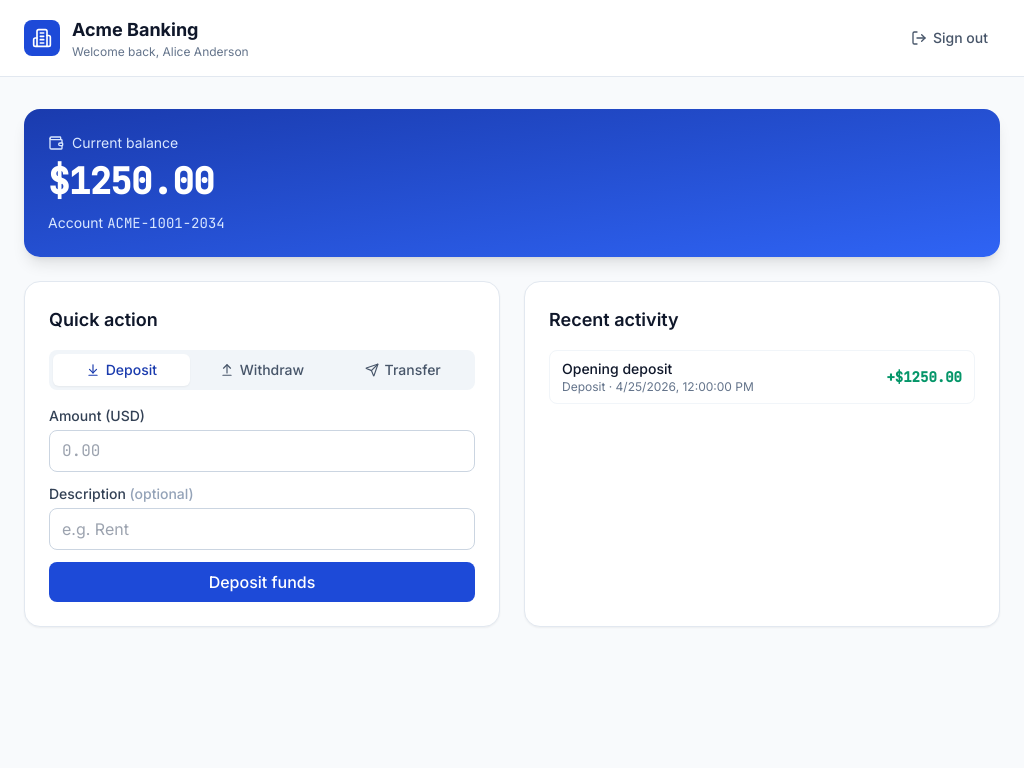
Scenario: <Dashboard /> deposit flow › converts dollar input to cents and re-fetches on success
Expected: the text "Opening deposit" is shown, [562,360,672,377]
Type "12.34" into the number field labelled "Amount (USD)" at (262,451), box [49,430,475,472]
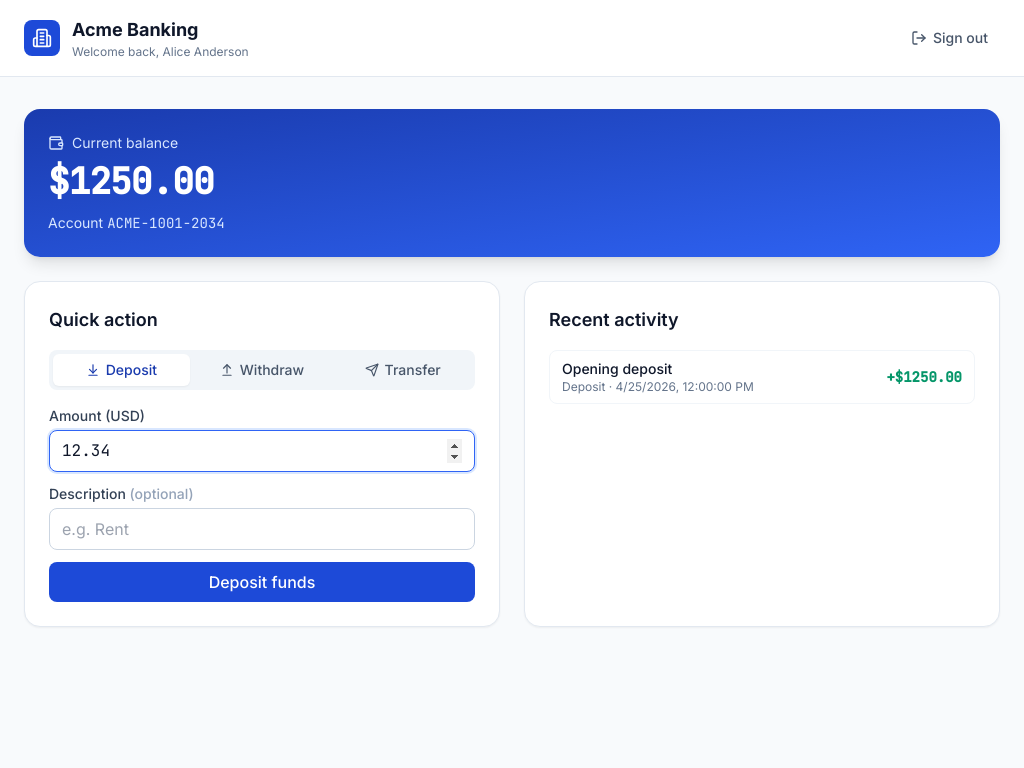
Type "Birthday" into the field labelled "Description (optional)" at (262,529), box [49,508,475,550]
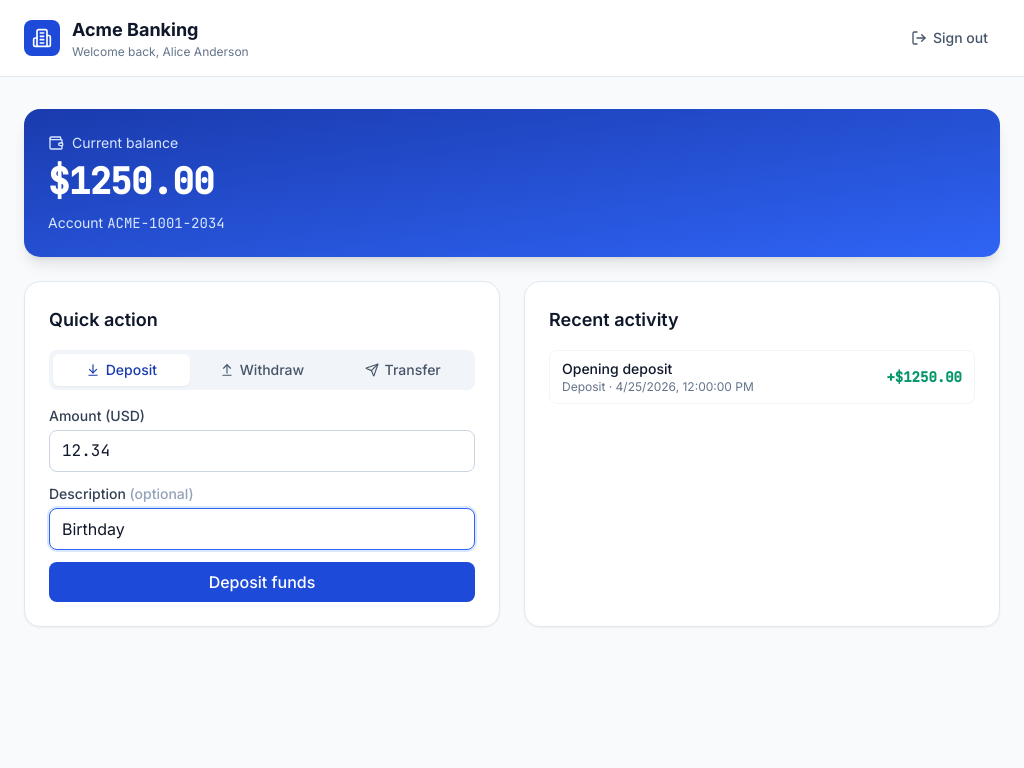
Click the button "Deposit funds" at (262,582), box [49,562,475,602]
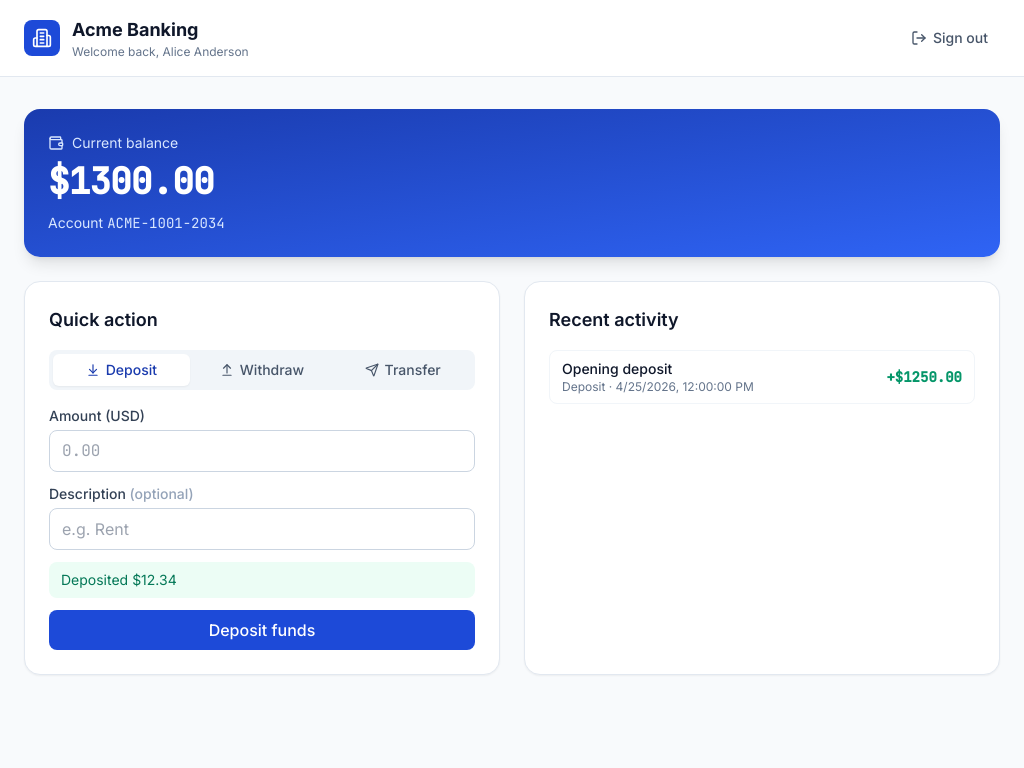
Result: the text "Deposited $12.34" is shown at [49,562,475,598]
